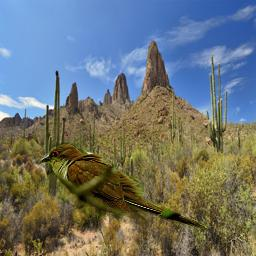Cuckoo: (38, 142, 209, 231)
